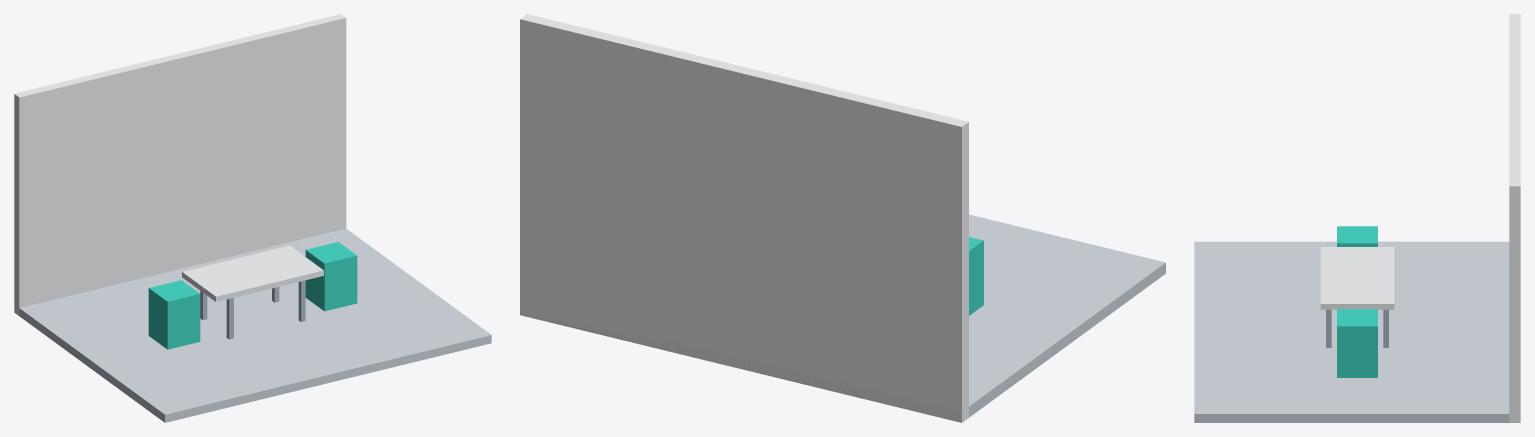
3 renders of one model, left to right at view 1: azimuth 30°, elevation 25°; view 2: azimuth 150°, elevation 25°; view 3: azimuth 270°, elevation 25°, orthographic. The views are drawn at different scales.
Parts seen in each view (by area): view 1: Exhibition Booth Concept; view 2: Exhibition Booth Concept; view 3: Exhibition Booth Concept.
Part boxes in pixels (x1=…): Exhibition Booth Concept: x1=14, y1=14, x2=491, y2=422; Exhibition Booth Concept: x1=520, y1=14, x2=1165, y2=422; Exhibition Booth Concept: x1=1194, y1=14, x2=1520, y2=422.
Bounding box in the file's own units: 5 × 3.2 × 4.
